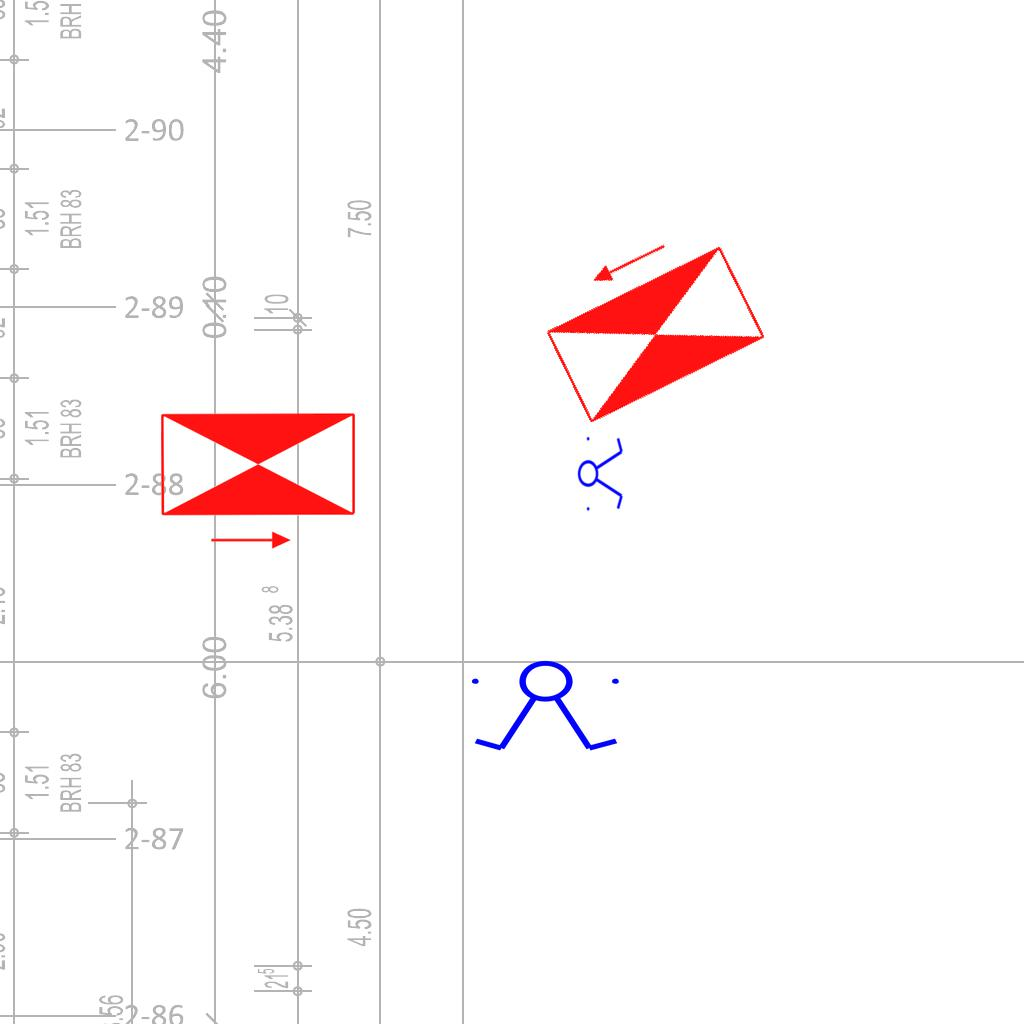Fluchtwegpiktogramm: (522, 208, 775, 432), (154, 407, 362, 554)
Serienschalter: (463, 659, 631, 755), (577, 431, 625, 515)
